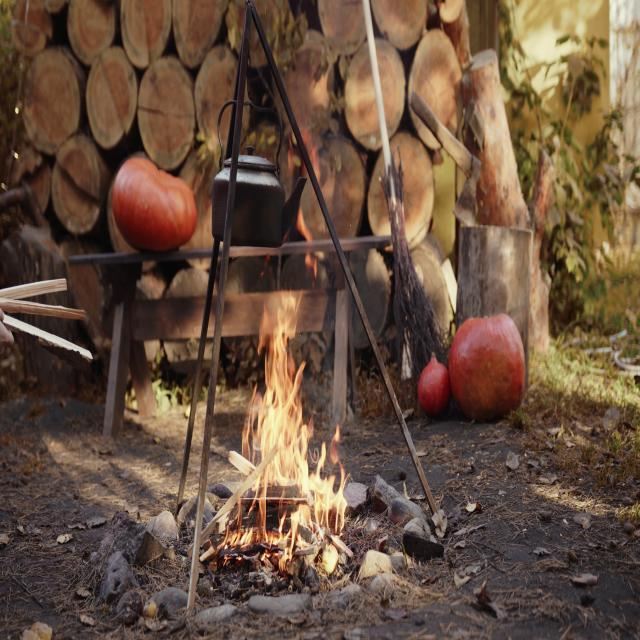Fire: (222, 288, 352, 574)
